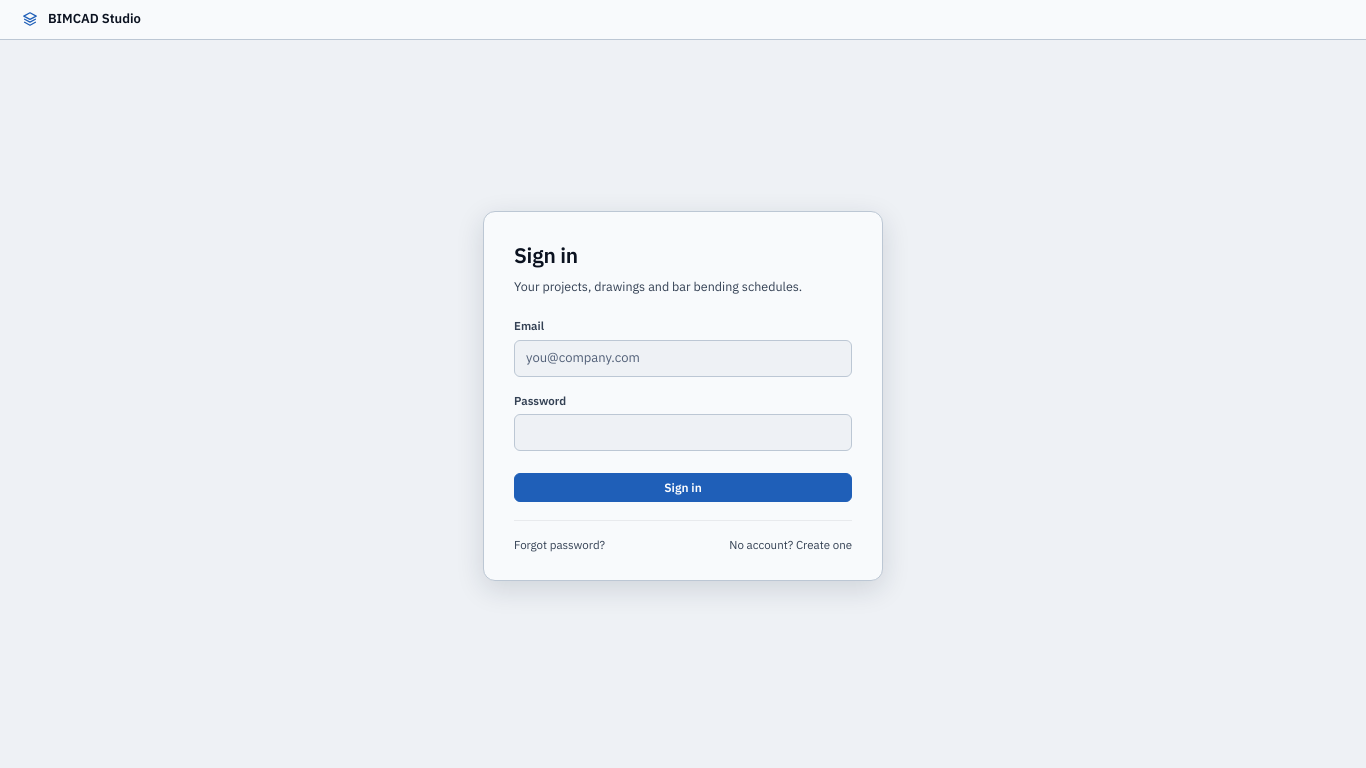
Test: signing in › shows the provider’s refusal instead of swallowing it
The width and height of the screenshot is (1366, 768).
In the field with test id "auth-email": [683, 358] box [514, 340, 852, 377], type "site@contractor.in"
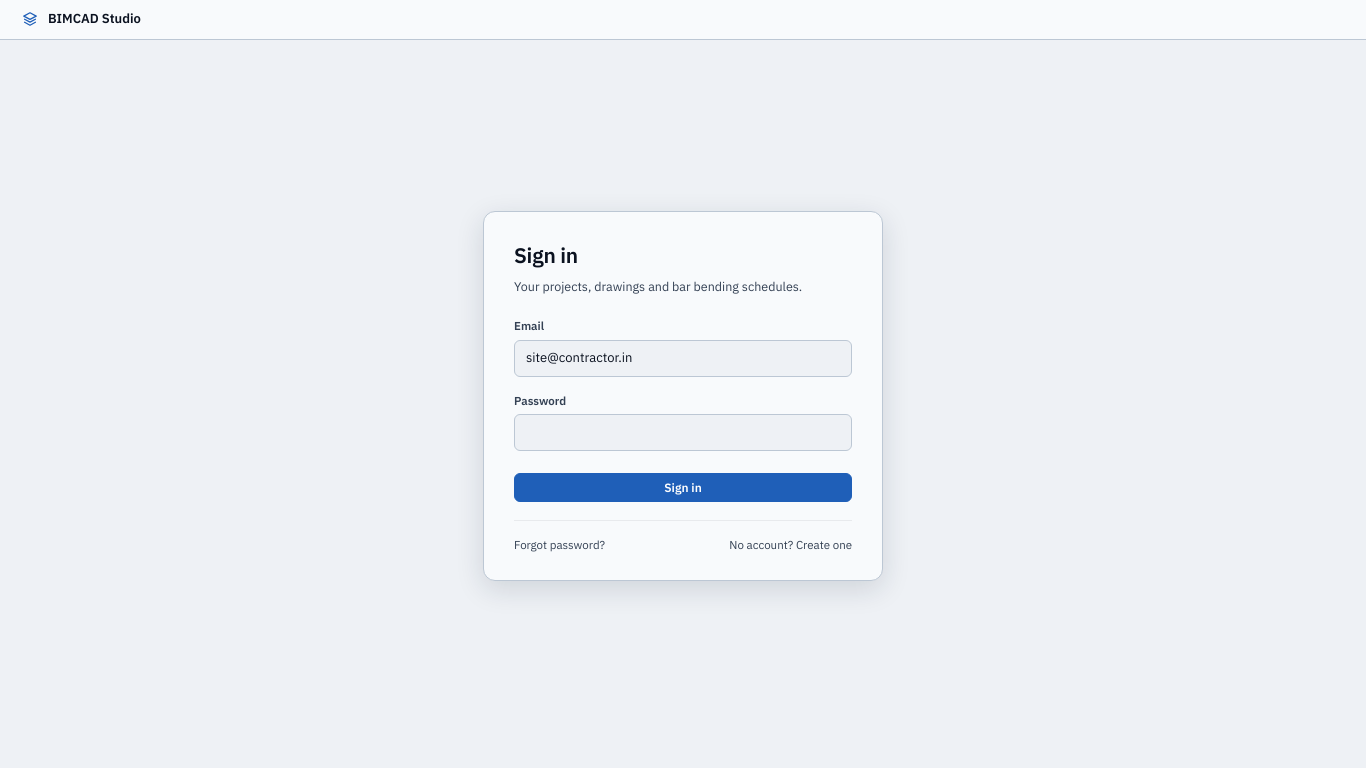
In the password field with test id "auth-password": [683, 433] box [514, 414, 852, 451], type "wrong-one1"
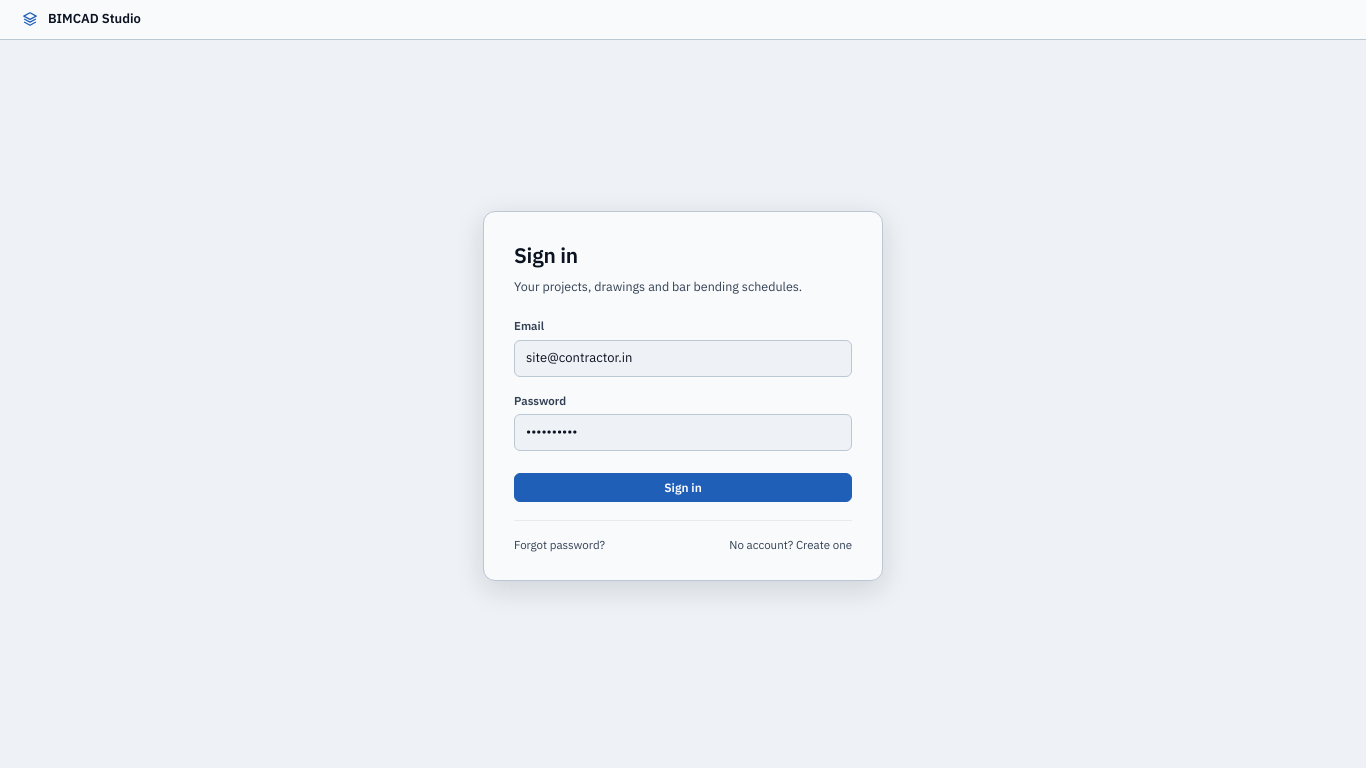
Click the button with test id "auth-submit": [683, 488] box [514, 473, 852, 502]
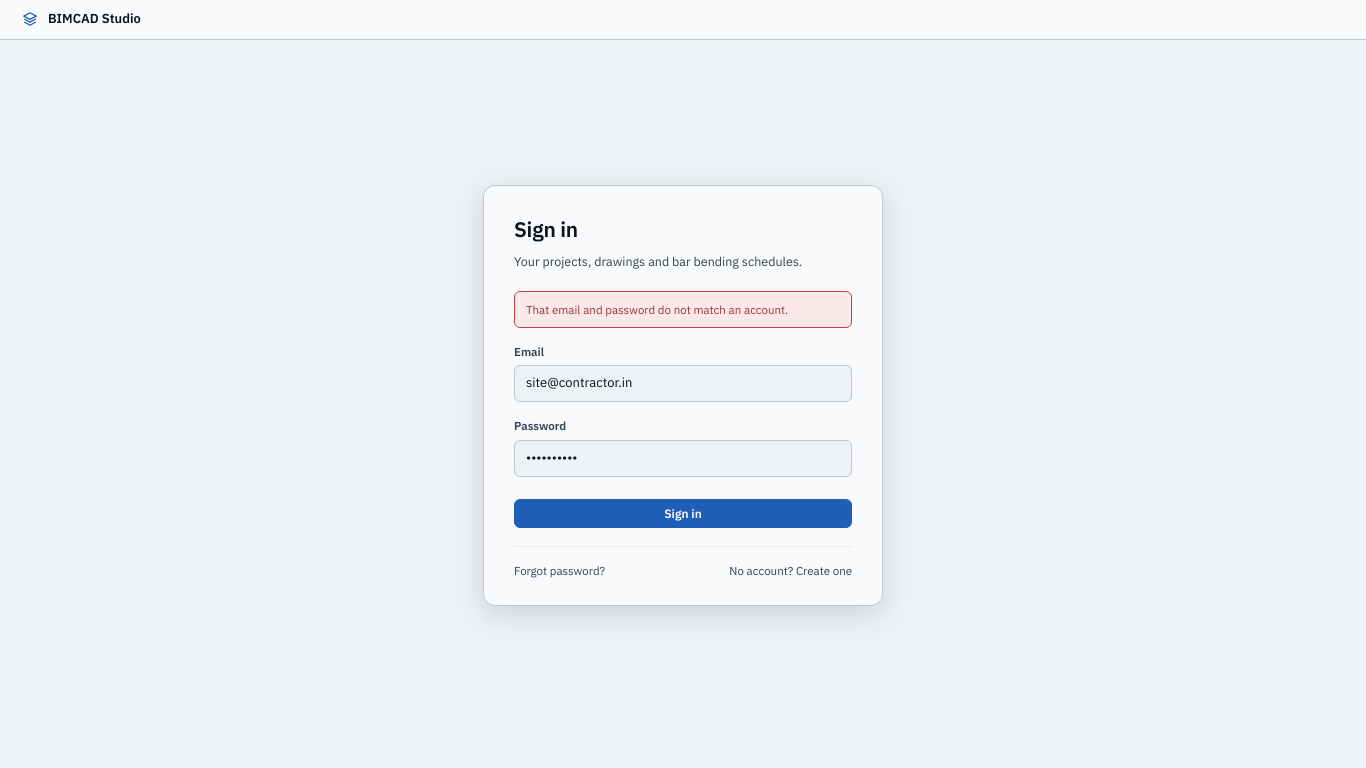
Now the message with test id "auth-error" shows "do not match an account", box [526, 302, 788, 316]
